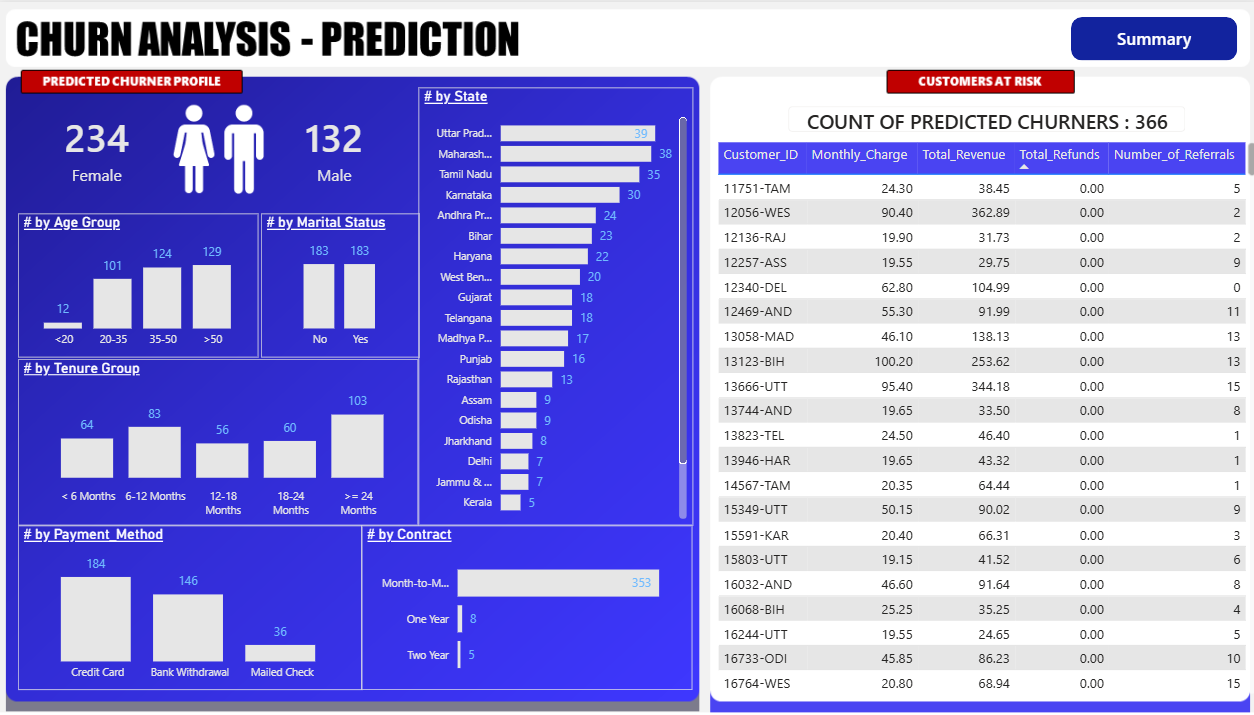

Layout of this report page (visuals, bound fields, positions):
{"tool":"powerbi","page":{"name":"Churn Prediction","canvas":[1280,720],"ordinal":1},"visuals":[{"type":"tableEx","fields":{"Values":["Predictions1.Customer_ID","Predictions1.Monthly_Charge","Predictions1.Total_Revenue","Predictions1.Total_Refunds","Predictions1.Number_of_Referrals"]},"box":[725.3,136.9,554.2,567.2],"z":0},{"type":"cardVisual","fields":{"Data":["tbl_measure.Title Predicted Churner"]},"box":[784,88,435.2,60.3],"z":1000},{"type":"cardVisual","fields":{"Data":["tbl_measure.Count Predicted Churner"]},"box":[24.9,80.9,159.7,132.7],"z":2000},{"type":"cardVisual","fields":{"Data":["tbl_measure.Count Predicted Churner"]},"box":[267.3,81,151.6,132],"z":3000},{"type":"clusteredColumnChart","fields":{"Category":["maping_AgeGrp.Age Group"],"Y":["CountNonNull(Predictions1.Customer_ID)"]},"box":[24.9,213.6,242.6,145.1],"z":4000},{"type":"clusteredColumnChart","fields":{"Y":["CountNonNull(Predictions1.Customer_ID)"],"Category":["Predictions1.Married"]},"box":[268.9,213.5,159.7,145.1],"z":5000},{"type":"clusteredColumnChart","fields":{"Y":["CountNonNull(Predictions1.Customer_ID)"],"Category":["mapping_TenureGrp.Tenure Group"]},"box":[24.4,360.2,404.2,167.9],"z":6000},{"type":"clusteredColumnChart","fields":{"Y":["CountNonNull(Predictions1.Customer_ID)"],"Category":["Predictions1.Payment_Method"]},"box":[24.4,528.1,347.2,166.2],"z":7000},{"type":"clusteredBarChart","fields":{"Category":["Predictions1.Contract"],"Y":["CountNonNull(Predictions1.Customer_ID)"]},"box":[371.1,528.7,333.8,165.9],"z":8000},{"type":"clusteredBarChart","fields":{"Y":["CountNonNull(Predictions1.Customer_ID)"],"Category":["Predictions1.State"]},"box":[428.7,86.4,277.1,441.7],"z":9000},{"type":"image","box":[153.4,91.2,147.2,114],"z":10000},{"type":"shape","box":[1087.1,14.7,167.9,44],"z":11000}]}

Visuals, with their boxes in screenshot pixels (x1, y1, x2, y2), scaled from the page's 1280x720 canvas onto the 1254x715 screenshot:
tableEx - Predictions1.Customer_ID x Predictions1.Monthly_Charge: <region>711, 136, 1253, 699</region>
cardVisual - tbl_measure.Title Predicted Churner: <region>768, 87, 1194, 147</region>
cardVisual - tbl_measure.Count Predicted Churner: <region>24, 80, 181, 212</region>
cardVisual - tbl_measure.Count Predicted Churner: <region>262, 80, 410, 212</region>
clusteredColumnChart - maping_AgeGrp.Age Group x CountNonNull(Predictions1.Customer_ID): <region>24, 212, 262, 356</region>
clusteredColumnChart - CountNonNull(Predictions1.Customer_ID) x Predictions1.Married: <region>263, 212, 420, 356</region>
clusteredColumnChart - CountNonNull(Predictions1.Customer_ID) x mapping_TenureGrp.Tenure Group: <region>24, 358, 420, 524</region>
clusteredColumnChart - CountNonNull(Predictions1.Customer_ID) x Predictions1.Payment_Method: <region>24, 524, 364, 689</region>
clusteredBarChart - Predictions1.Contract x CountNonNull(Predictions1.Customer_ID): <region>364, 525, 691, 690</region>
clusteredBarChart - CountNonNull(Predictions1.Customer_ID) x Predictions1.State: <region>420, 86, 691, 524</region>
image: <region>150, 91, 294, 204</region>
shape: <region>1065, 15, 1230, 58</region>
